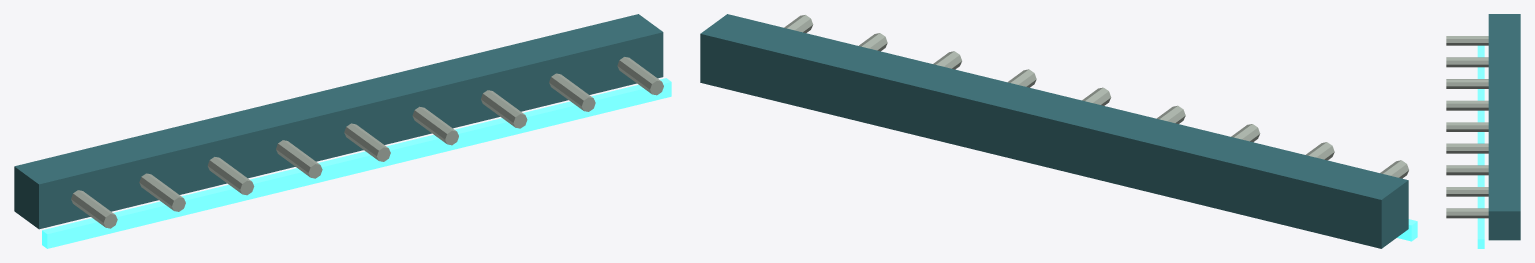
Rendered from 04_Arcade_Bridge.glb.
The picture shows the model from 3 angles, left to right: view 1: azimuth 30°, elevation 25°; view 2: azimuth 150°, elevation 25°; view 3: azimuth 270°, elevation 25°; orthographic projection. The views are drawn at different scales.
Visible parts, largest first — view 1: 04_Arcade_Bridge_00, 04_Arcade_Bridge_01, 04_Arcade_Bridge_03, 04_Arcade_Bridge_07, 04_Arcade_Bridge_09, 04_Arcade_Bridge_02, 04_Arcade_Bridge_04, 04_Arcade_Bridge_08, 04_Arcade_Bridge_05, 04_Arcade_Bridge_06, 04_Arcade_Bridge_10; view 2: 04_Arcade_Bridge_00; view 3: 04_Arcade_Bridge_00, 04_Arcade_Bridge_01, 04_Arcade_Bridge_03, 04_Arcade_Bridge_05, 04_Arcade_Bridge_07, 04_Arcade_Bridge_08, 04_Arcade_Bridge_10, 04_Arcade_Bridge_02, 04_Arcade_Bridge_04, 04_Arcade_Bridge_06, 04_Arcade_Bridge_09.
Part boxes in pixels (x1,y1,x2,y2): 04_Arcade_Bridge_00: (14, 14, 663, 229); 04_Arcade_Bridge_01: (42, 78, 671, 248); 04_Arcade_Bridge_03: (139, 173, 185, 211); 04_Arcade_Bridge_07: (412, 106, 458, 145); 04_Arcade_Bridge_09: (549, 73, 595, 111); 04_Arcade_Bridge_02: (71, 190, 117, 228); 04_Arcade_Bridge_04: (207, 157, 254, 195); 04_Arcade_Bridge_08: (481, 90, 527, 128); 04_Arcade_Bridge_05: (276, 140, 322, 178); 04_Arcade_Bridge_06: (344, 123, 390, 161); 04_Arcade_Bridge_10: (617, 57, 663, 95); 04_Arcade_Bridge_00: (700, 14, 1408, 248); 04_Arcade_Bridge_00: (1488, 14, 1520, 240); 04_Arcade_Bridge_01: (1477, 45, 1484, 248); 04_Arcade_Bridge_03: (1446, 57, 1488, 67); 04_Arcade_Bridge_05: (1446, 100, 1488, 110); 04_Arcade_Bridge_07: (1446, 143, 1488, 153); 04_Arcade_Bridge_08: (1446, 165, 1488, 175); 04_Arcade_Bridge_10: (1446, 208, 1488, 218); 04_Arcade_Bridge_02: (1446, 36, 1488, 45); 04_Arcade_Bridge_04: (1446, 79, 1488, 88); 04_Arcade_Bridge_06: (1446, 122, 1488, 131); 04_Arcade_Bridge_09: (1446, 187, 1488, 196).
Size of the model in its own units: 8 by 0.715 by 1.27.
